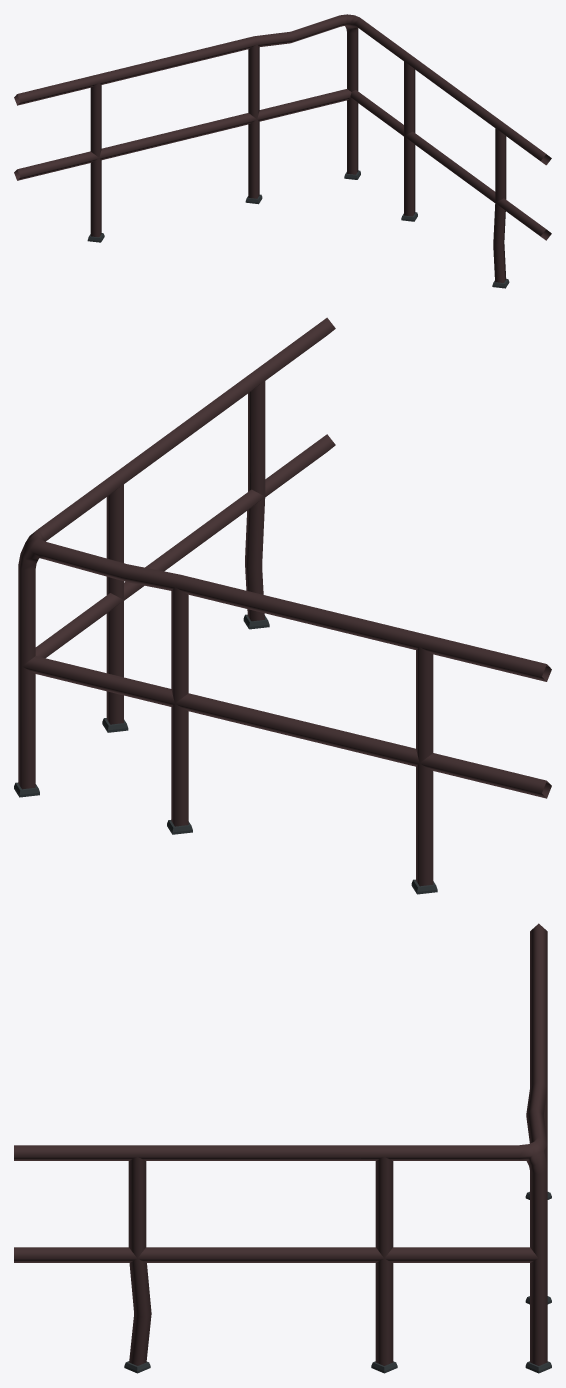
The model's file is SW_ENV_EL_Railing_Crnr_Internal.fbx.
3 renders of one model, top to bottom at view 1: azimuth 30°, elevation 25°; view 2: azimuth 150°, elevation 25°; view 3: azimuth 270°, elevation 25°, orthographic. The views are drawn at different scales.
Parts seen in each view (by area): view 1: SW_ENV_EL_Railing_Crnr_Internal; view 2: SW_ENV_EL_Railing_Crnr_Internal; view 3: SW_ENV_EL_Railing_Crnr_Internal.
Part boxes in pixels (bbox=[...]): SW_ENV_EL_Railing_Crnr_Internal: bbox=[14, 14, 551, 288]; SW_ENV_EL_Railing_Crnr_Internal: bbox=[14, 317, 551, 894]; SW_ENV_EL_Railing_Crnr_Internal: bbox=[14, 923, 551, 1373].
Size of the model in its own units: 2.18 by 0.9954 by 2.18.
